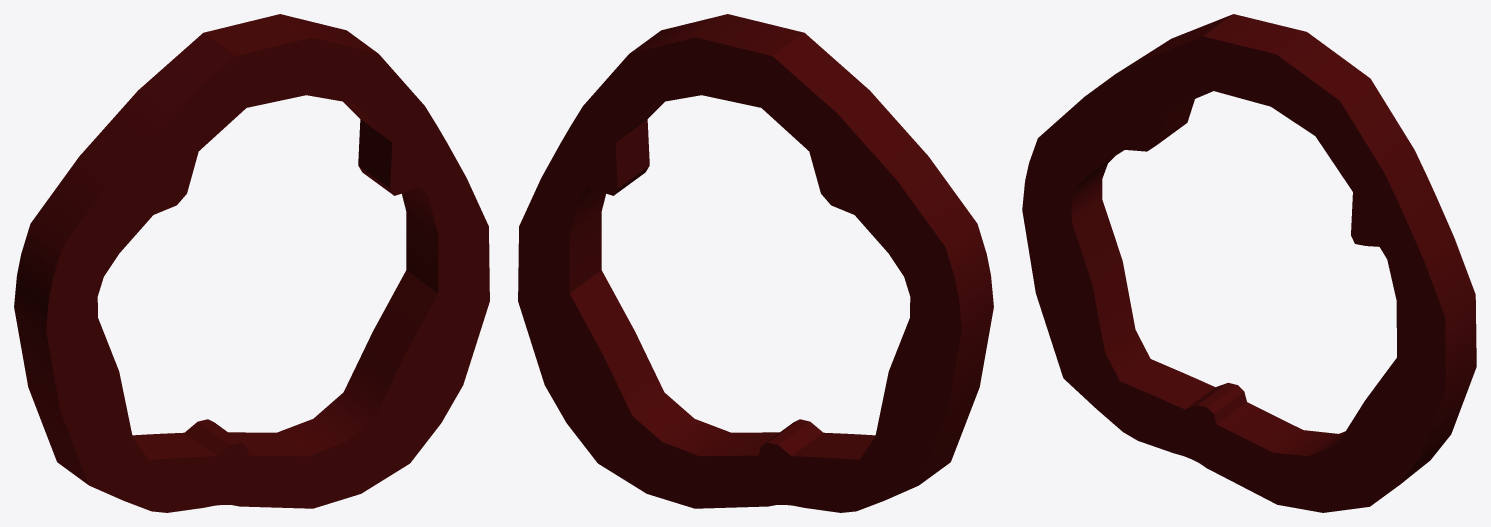
File: Kevin_Naupari_Bell_Pepper_Slices01.fbx
3 renders of one model, left to right at view 1: azimuth 30°, elevation 25°; view 2: azimuth 150°, elevation 25°; view 3: azimuth 330°, elevation 25°, orthographic. The views are drawn at different scales.
Parts seen in each view (by area): view 1: Pepper_Ring_1; view 2: Pepper_Ring_1; view 3: Pepper_Ring_1.
Boxes of the visible parts, x1,y1,x2,y2 form: Pepper_Ring_1: (14, 14, 489, 512); Pepper_Ring_1: (518, 14, 993, 512); Pepper_Ring_1: (1022, 14, 1476, 512).
Size of the model in its own units: 2.02 by 2.05 by 0.2528.
